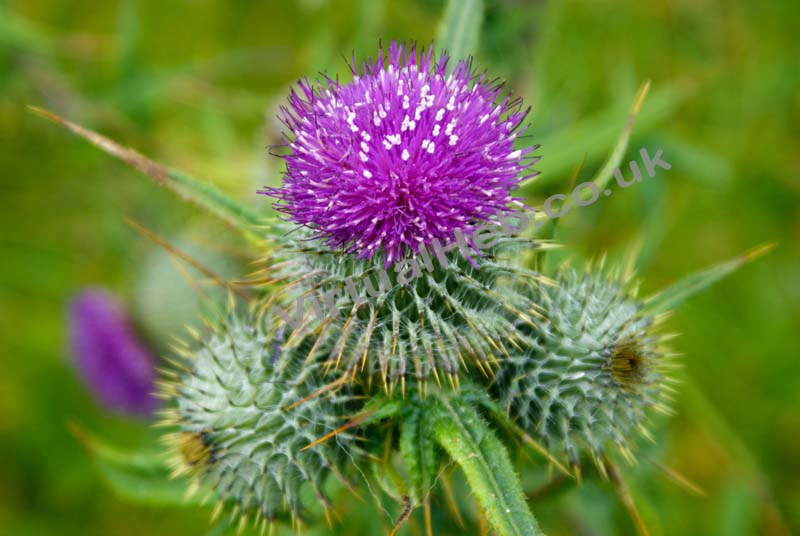thistle: (243, 46, 554, 381)
